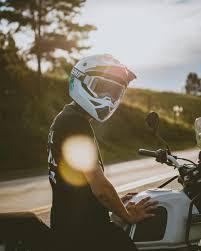Helmet: (68, 53, 136, 122)
